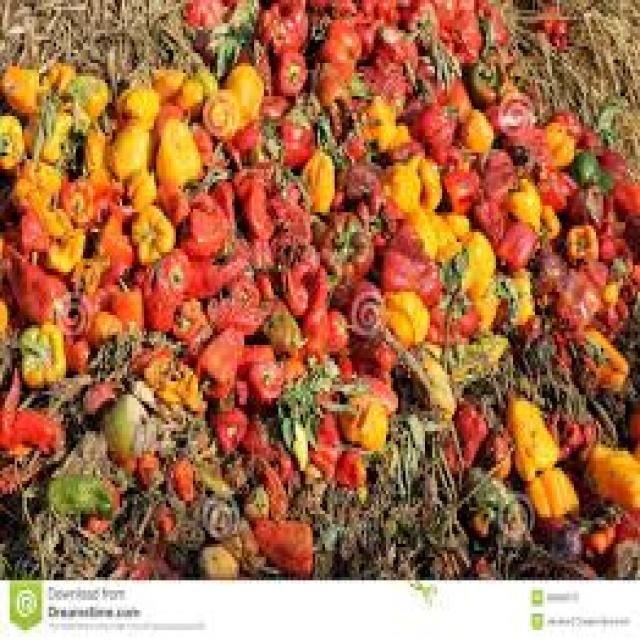organic waste: (0, 0, 638, 577), (266, 182, 320, 318), (122, 335, 203, 414), (274, 358, 332, 464), (2, 235, 68, 325), (279, 358, 337, 458), (139, 242, 203, 325), (501, 388, 559, 477), (569, 318, 628, 395), (95, 388, 147, 474), (547, 404, 599, 488), (242, 514, 310, 577), (10, 156, 66, 232), (240, 405, 293, 484), (577, 259, 630, 338), (252, 272, 305, 351), (398, 345, 454, 418), (369, 242, 437, 302), (173, 0, 244, 56), (520, 461, 576, 531), (210, 26, 271, 90), (176, 186, 232, 255), (586, 444, 638, 518), (0, 398, 64, 458), (318, 206, 371, 278), (207, 0, 256, 76), (547, 265, 601, 332), (440, 394, 486, 471), (405, 86, 457, 153), (503, 176, 562, 235), (152, 116, 200, 186), (200, 292, 278, 335), (576, 504, 638, 557), (337, 152, 384, 219), (15, 322, 68, 381), (230, 159, 274, 229), (335, 388, 386, 448), (193, 332, 247, 388), (56, 169, 115, 219), (39, 199, 81, 269), (222, 53, 262, 126), (305, 0, 356, 56), (432, 0, 479, 60), (252, 0, 305, 53), (130, 199, 174, 262), (481, 83, 530, 139), (22, 103, 68, 162), (300, 265, 330, 355), (334, 368, 396, 411), (428, 288, 477, 342), (169, 288, 210, 352), (247, 451, 286, 517), (457, 229, 496, 295), (303, 401, 335, 481), (464, 46, 508, 103), (381, 285, 425, 342), (359, 40, 406, 93), (444, 332, 506, 372), (479, 142, 518, 205), (396, 206, 449, 252), (90, 212, 130, 272), (537, 106, 579, 163), (105, 119, 147, 176), (222, 514, 264, 570), (210, 255, 257, 305), (591, 186, 623, 258), (344, 332, 394, 378), (501, 122, 552, 166), (118, 537, 178, 574), (342, 272, 379, 332), (78, 477, 125, 524), (525, 239, 564, 295), (112, 80, 159, 126), (74, 116, 112, 172), (195, 86, 237, 136), (393, 0, 435, 50), (439, 142, 472, 205), (296, 149, 332, 206), (315, 17, 359, 63), (0, 59, 37, 112), (66, 70, 107, 116), (76, 375, 117, 421), (202, 166, 235, 222), (474, 0, 508, 53), (472, 189, 508, 239), (457, 106, 493, 156), (493, 216, 532, 262), (276, 113, 315, 159), (205, 405, 244, 451), (562, 179, 603, 222), (352, 372, 396, 412), (369, 222, 427, 252), (432, 70, 469, 116), (408, 152, 437, 209), (320, 302, 349, 358), (335, 444, 369, 491), (269, 46, 303, 93), (381, 159, 418, 202), (601, 534, 637, 577), (359, 120, 410, 150), (535, 169, 576, 206), (0, 109, 24, 172), (481, 428, 511, 477), (608, 249, 638, 298), (466, 282, 496, 331), (17, 206, 47, 255), (535, 0, 569, 43), (232, 338, 271, 375), (83, 308, 122, 345), (464, 292, 503, 328), (198, 540, 239, 574), (310, 56, 347, 93), (560, 219, 598, 255), (110, 272, 139, 318), (117, 166, 154, 202), (36, 53, 68, 93), (130, 451, 162, 491), (154, 176, 186, 216), (537, 199, 562, 249), (508, 265, 533, 315), (462, 541, 496, 577), (71, 252, 107, 285), (244, 229, 276, 265), (569, 468, 594, 514), (620, 209, 638, 272), (462, 494, 496, 527), (171, 444, 193, 494), (173, 70, 200, 110), (362, 93, 398, 123), (185, 120, 212, 160), (564, 146, 596, 179), (610, 176, 638, 212), (330, 342, 354, 384), (147, 63, 180, 93), (188, 56, 217, 90), (596, 142, 623, 176), (63, 335, 88, 371), (381, 139, 425, 159), (242, 478, 266, 514), (151, 103, 181, 129), (574, 122, 599, 152), (352, 13, 369, 53), (154, 508, 173, 540), (322, 182, 342, 212), (359, 0, 393, 17), (376, 199, 401, 222), (623, 401, 637, 441), (586, 166, 613, 186), (442, 212, 469, 232), (232, 372, 247, 402), (264, 93, 291, 109), (0, 285, 7, 341)
